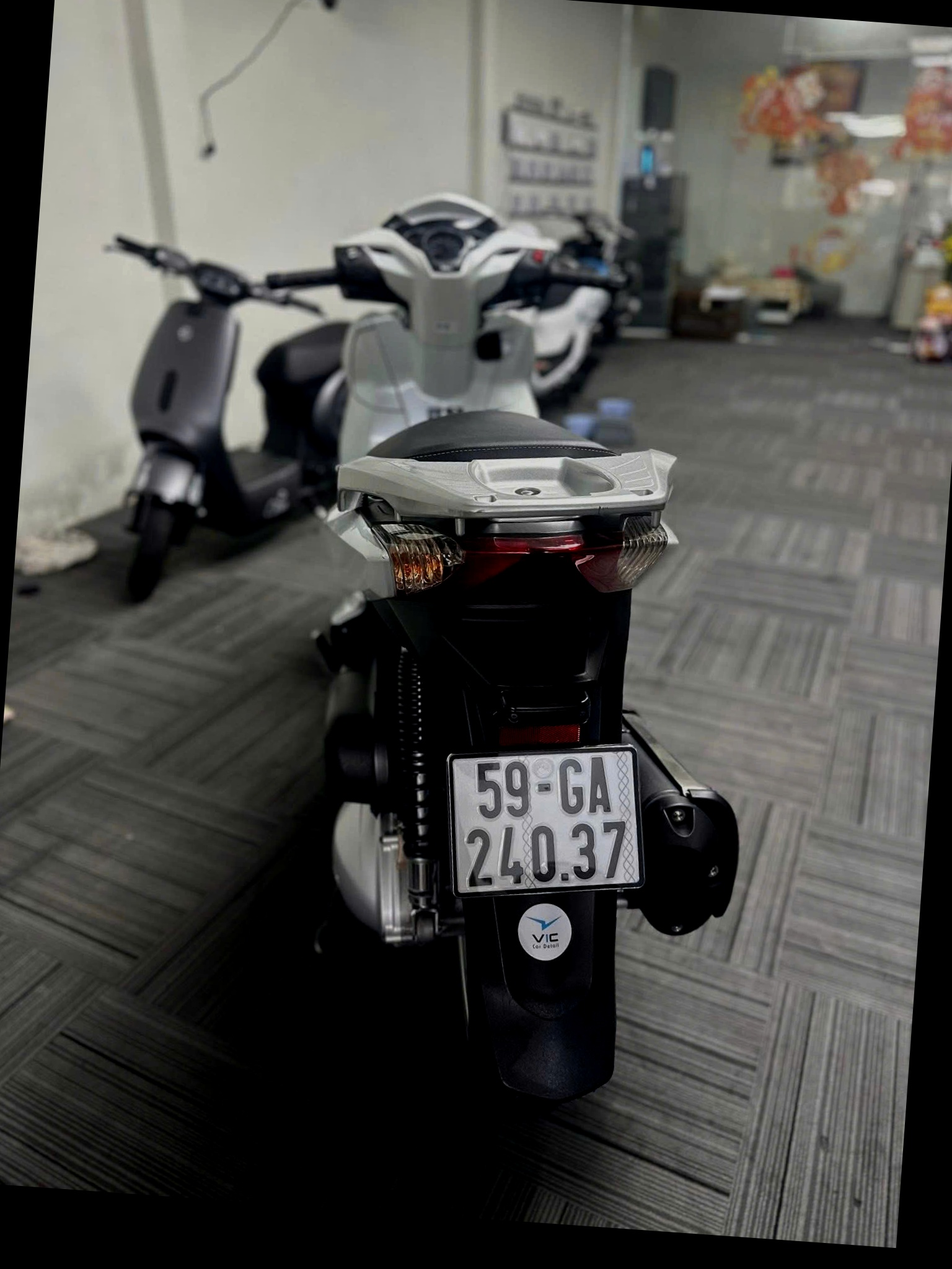Bien-so: (421, 790, 622, 974)
